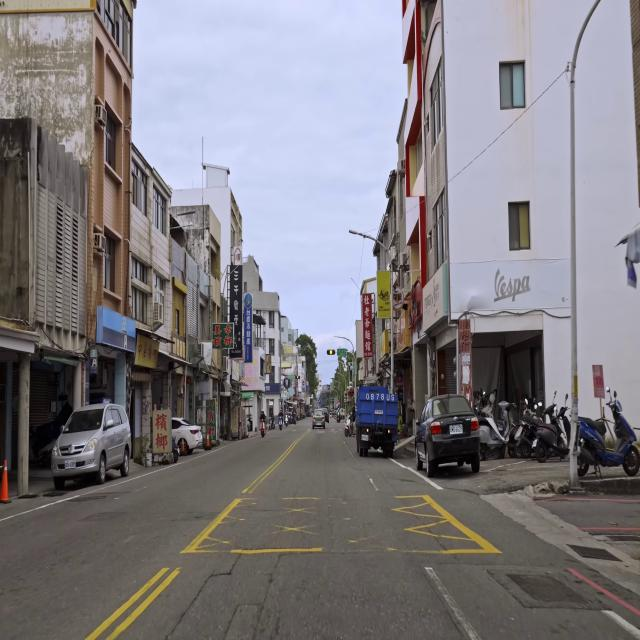yellow light: (326, 349, 336, 355), (295, 375, 301, 380)
